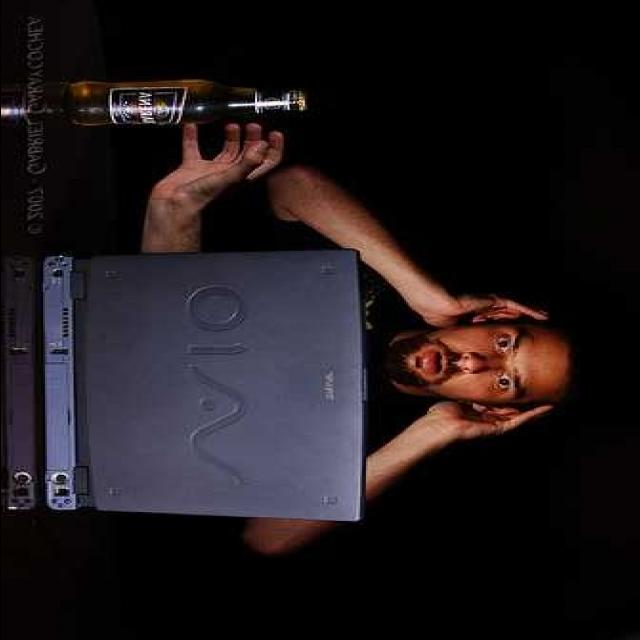laptop: (44, 240, 366, 532)
